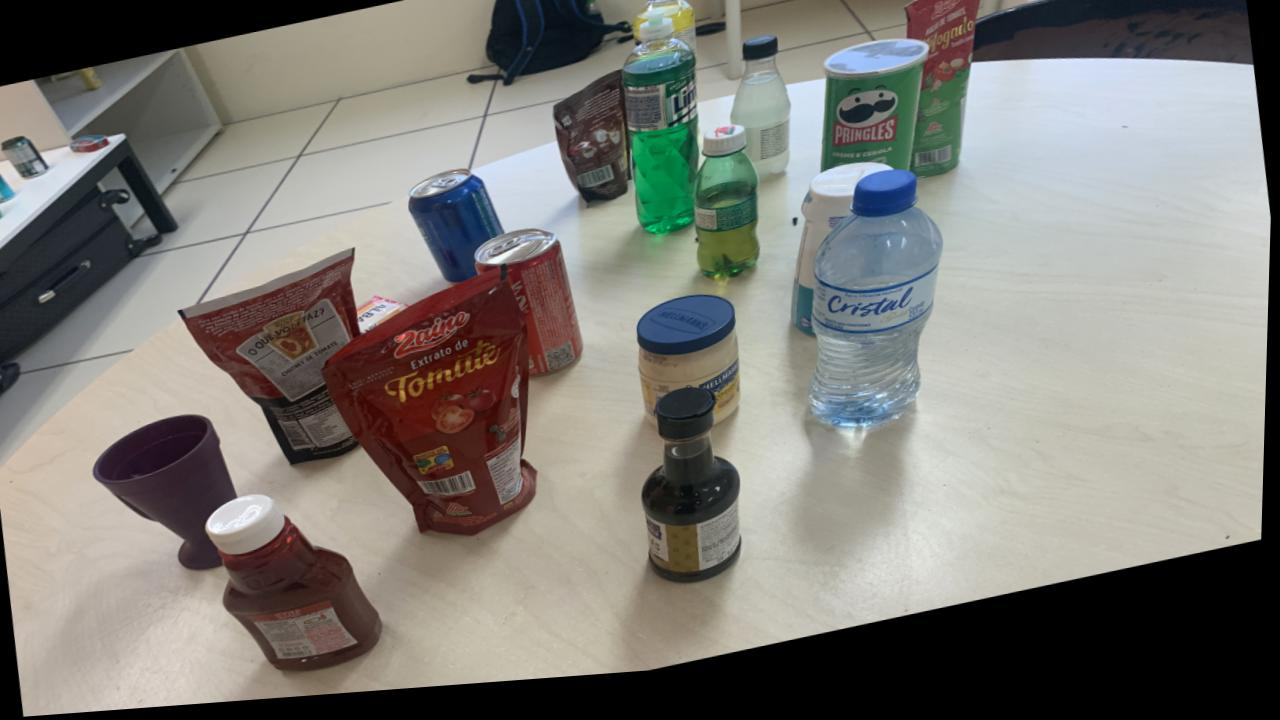Cleaner-Cleanup_Items: (792, 176, 889, 347)
Coffee-Pantry_Items: (554, 80, 631, 212)
Coke-Drinks: (477, 236, 585, 384)
Detergent-Cleanup_Items: (621, 26, 701, 244), (633, 0, 697, 63)
English_Sauce-Pantry_Items: (645, 397, 745, 593)
Guarana-Drinks: (694, 135, 761, 289)
Ketchup-Pantry_Items: (208, 498, 386, 676)
Mayonnaise-Pantry_Items: (638, 305, 743, 433)
Pringles-Snacks: (822, 52, 929, 184)
Soap-Cleanup_Items: (359, 301, 409, 338)
Soda-Drinks: (730, 46, 791, 189)
Tomato_Sauce-Pantry_Items: (325, 274, 540, 543), (181, 254, 361, 469), (906, 0, 983, 192)
Tonic-Drinks: (409, 176, 505, 290)
Water_Bottle-Drinks: (812, 183, 945, 441)
